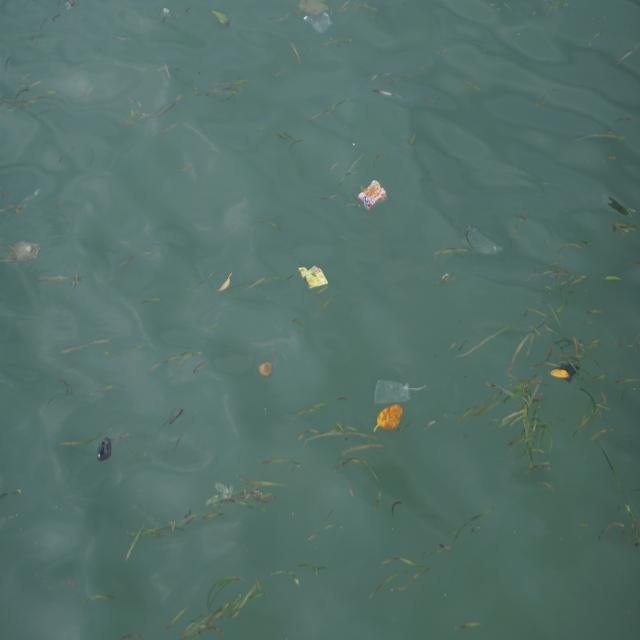Bungkus Makanan: (299, 257, 332, 298), (356, 175, 389, 215)
Kantong Plastik: (373, 369, 425, 408), (462, 226, 505, 259), (301, 2, 333, 37), (97, 433, 113, 465)
